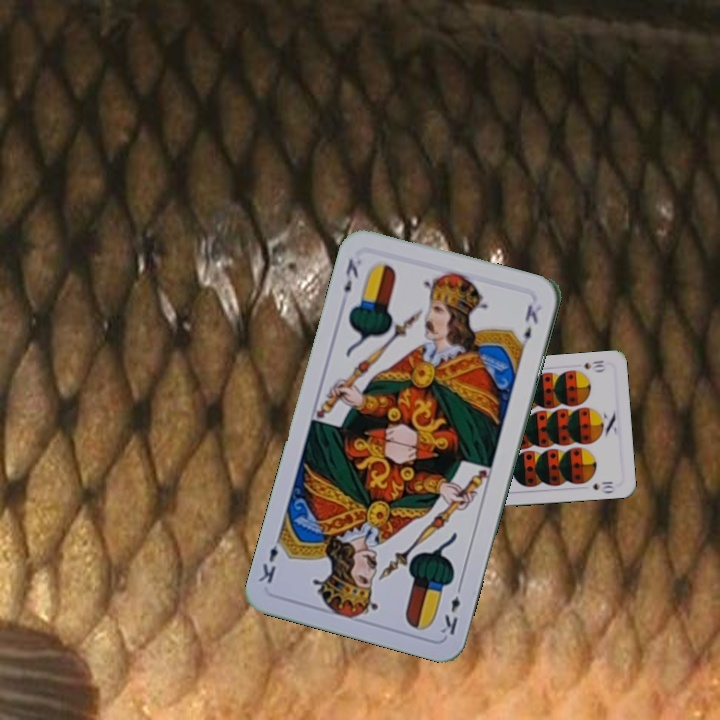EK: (437, 579, 464, 638), (339, 254, 361, 296)
S10: (580, 356, 608, 374)
